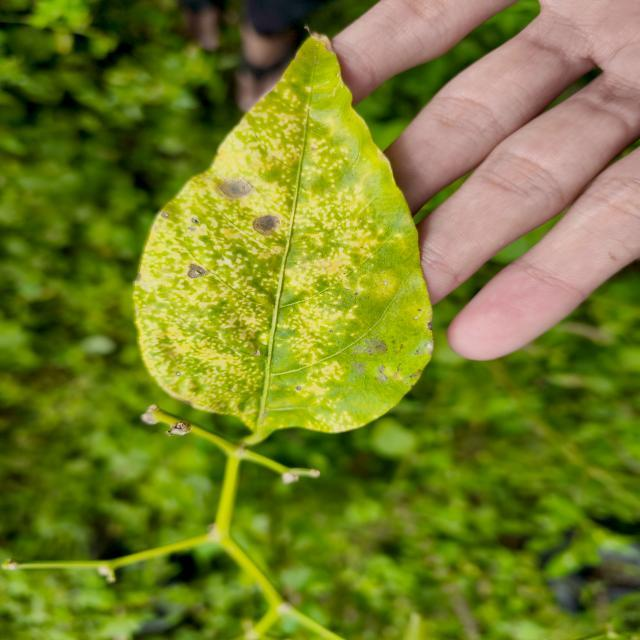Virus Kuning: (132, 27, 435, 445)
